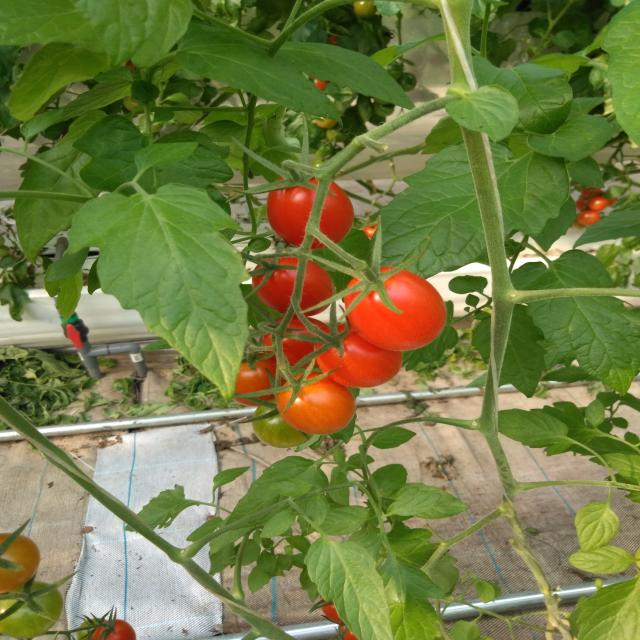c-half-riped: (276, 371, 356, 436), (233, 352, 290, 408), (0, 533, 41, 593)
c-riped: (344, 266, 447, 352), (266, 174, 355, 249), (314, 323, 402, 390), (252, 255, 335, 318), (262, 315, 329, 370), (91, 618, 136, 640)
c-unriped: (0, 580, 64, 638), (252, 399, 316, 449), (75, 618, 108, 640)
